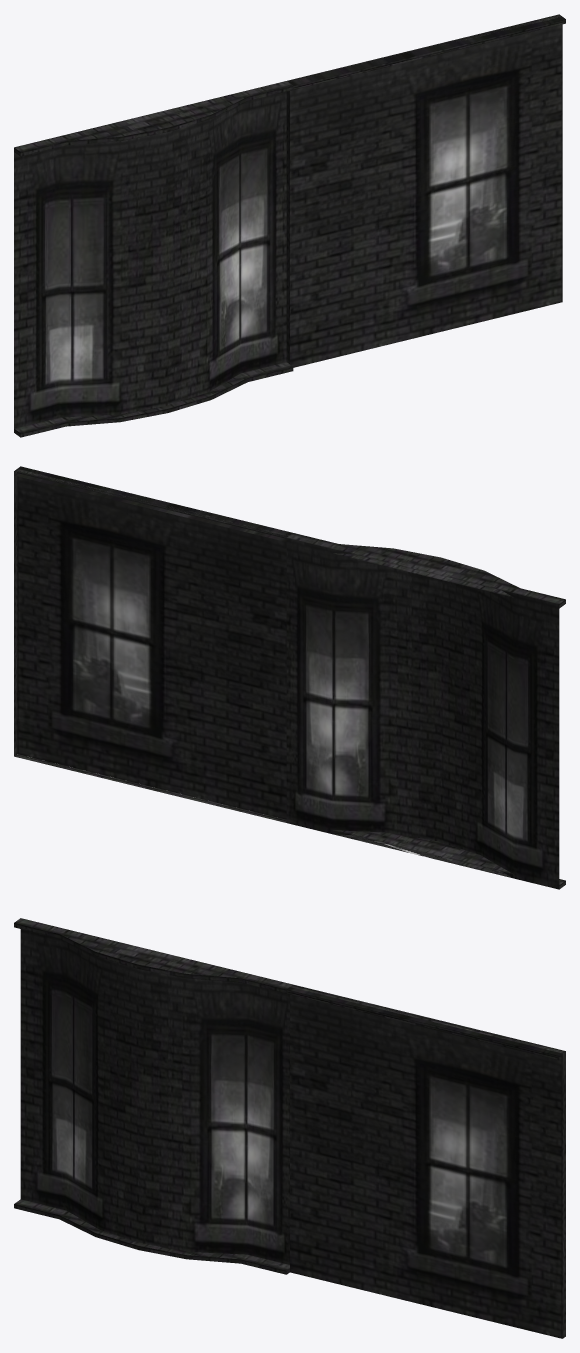
The model's file is floor.obj.
The picture shows the model from 3 angles, top to bottom: view 1: azimuth 30°, elevation 25°; view 2: azimuth 150°, elevation 25°; view 3: azimuth 330°, elevation 25°; orthographic projection.
Parts seen in each view (by area): view 1: group; view 2: group; view 3: group.
Part boxes in pixels (x1,y1,x2,y2): group: [14, 14, 565, 437]; group: [14, 466, 565, 889]; group: [14, 918, 565, 1338].
Bounding box in the file's own units: 10 × 5 × 0.584.
